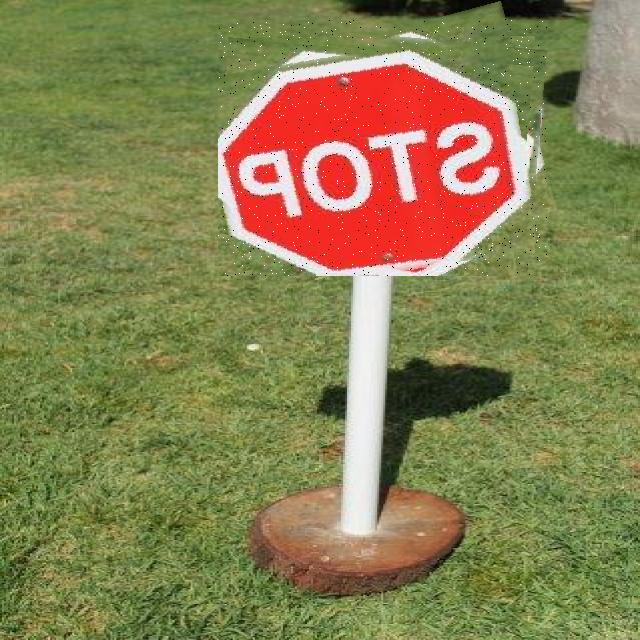stop: (218, 19, 547, 276)
